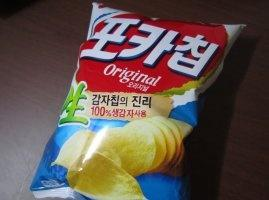snack: (30, 2, 247, 200)
